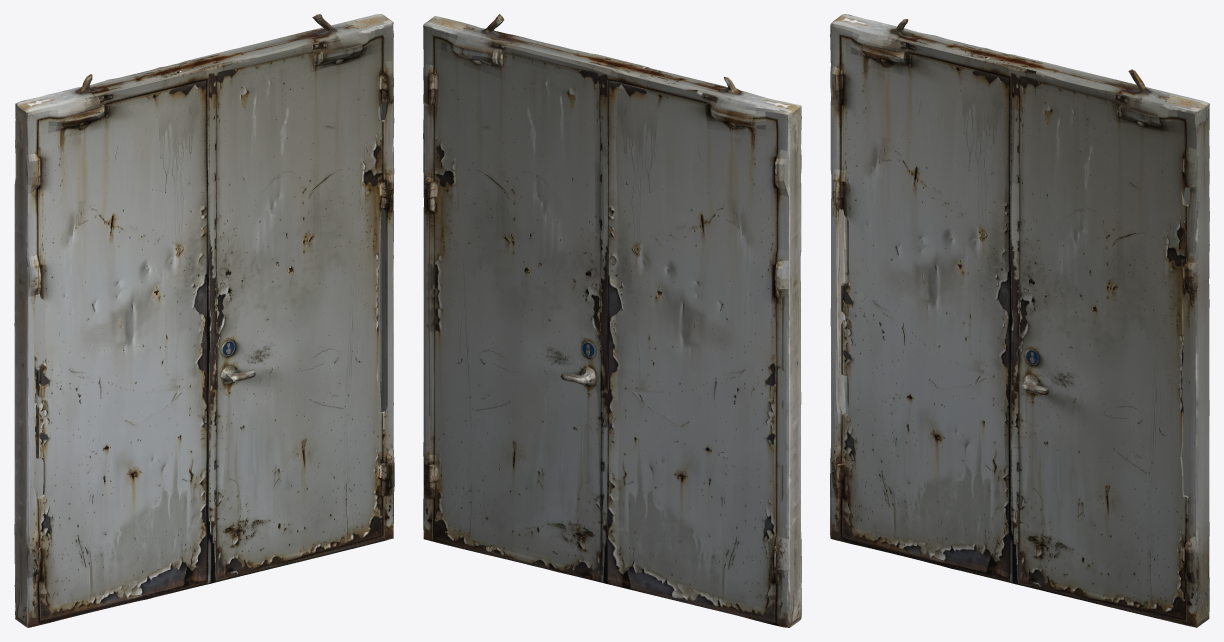
File: Meshy_AI_Double_metal_doors_0518140315_texture.fbx
3 views of the same model, side by side, from view 1: azimuth 30°, elevation 25°; view 2: azimuth 150°, elevation 25°; view 3: azimuth 330°, elevation 25° (orthographic).
Parts seen in each view (by area): view 1: temp; view 2: temp; view 3: temp.
Part boxes in pixels (x1,y1,x2,y2): temp: (14, 14, 394, 627); temp: (423, 14, 801, 627); temp: (830, 14, 1209, 627).
Bounding box in the file's own units: 137 × 191 × 17.73.
1 material, 1 textured.
